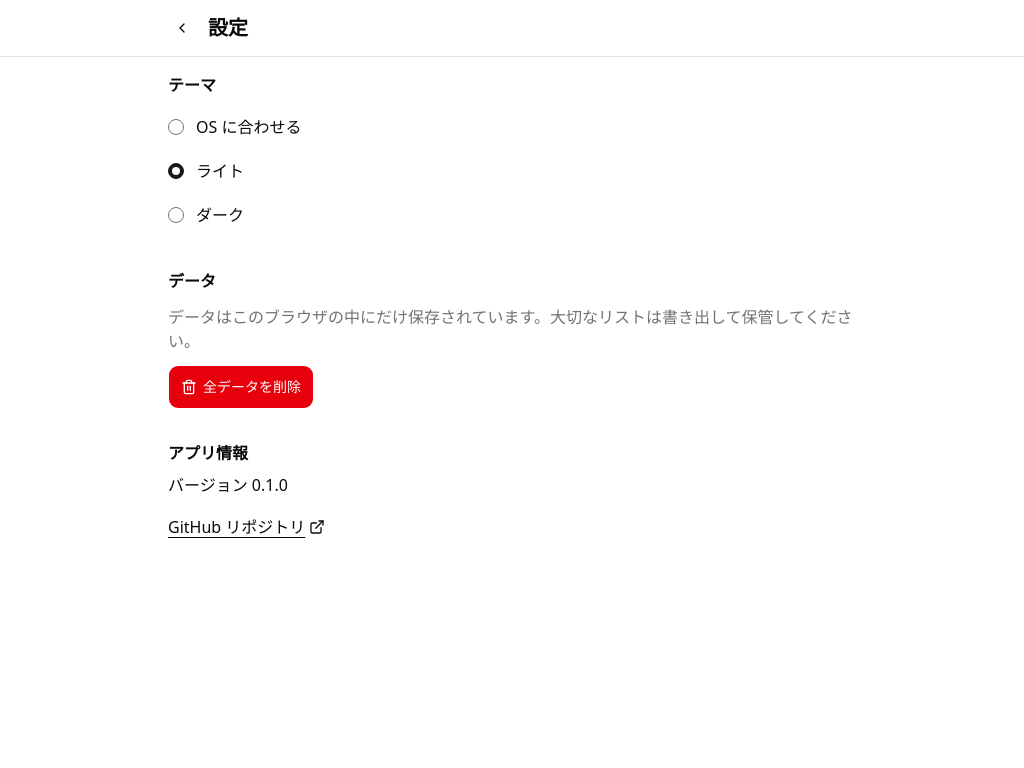
Test: Settings › データ › 1 段階目のキャンセルと 2 段階目の Esc では何も消えない
Expected: the heading "設定" is shown, [208,14,248,41]
Click the button "全データを削除" at (241, 387), box [168,365,314,409]
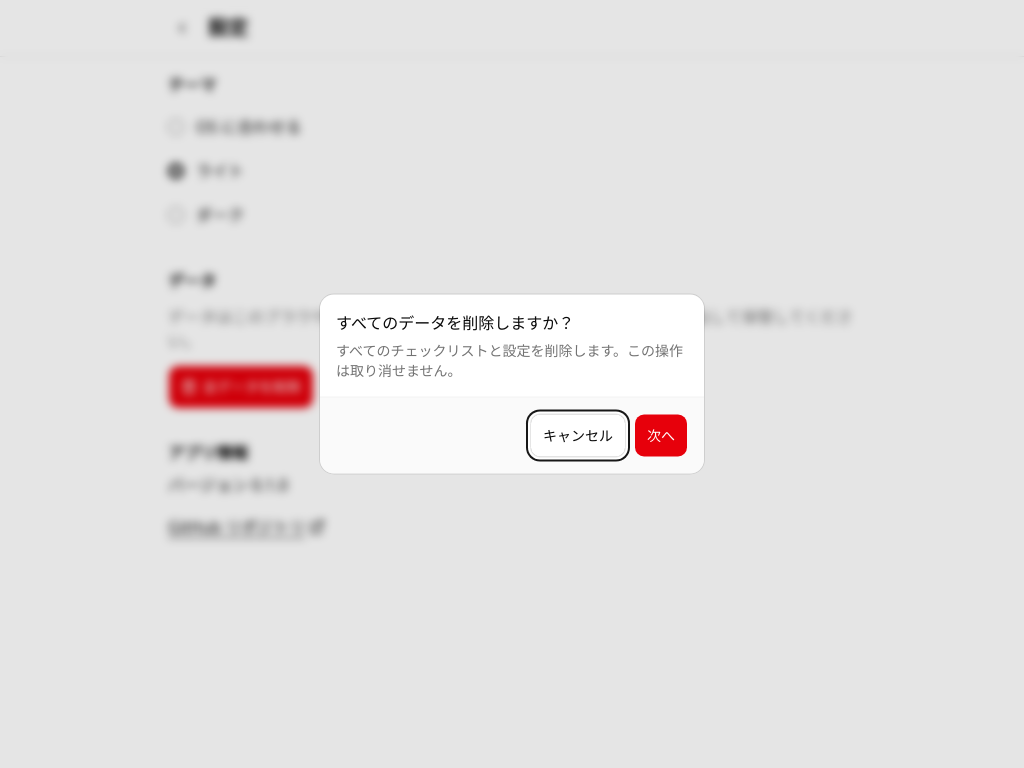
Click the button "キャンセル" at (578, 436), box [530,414,626,458]
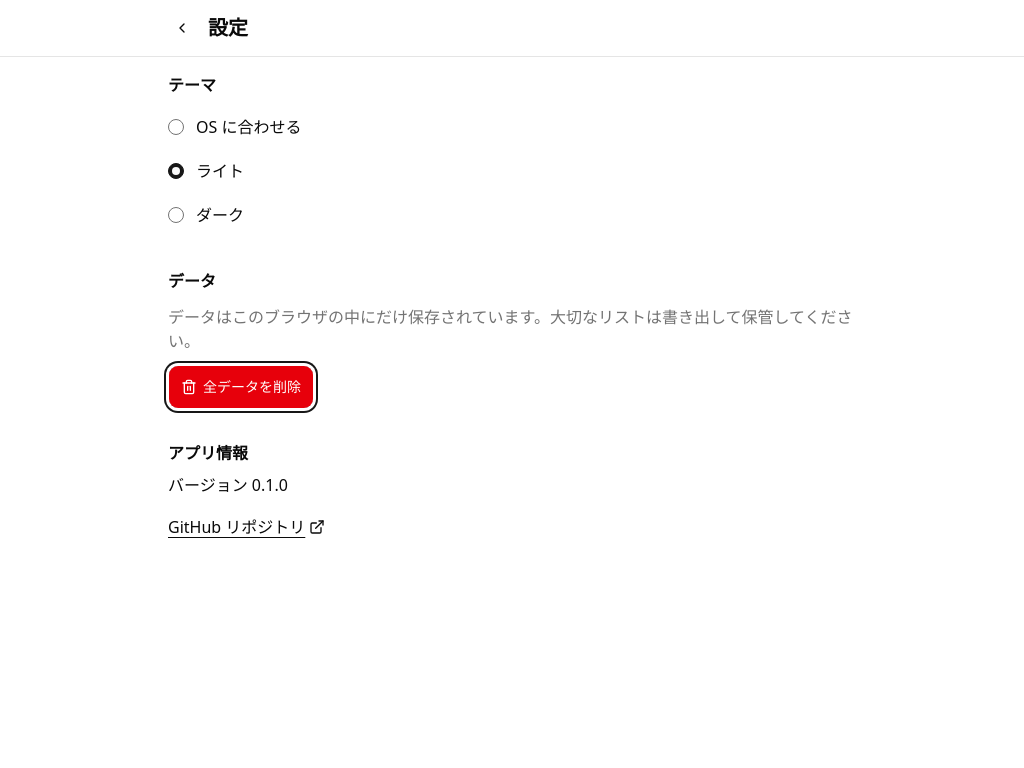
Now the dialog is gone
Click the button "全データを削除" at (241, 387), box [168,365,314,409]
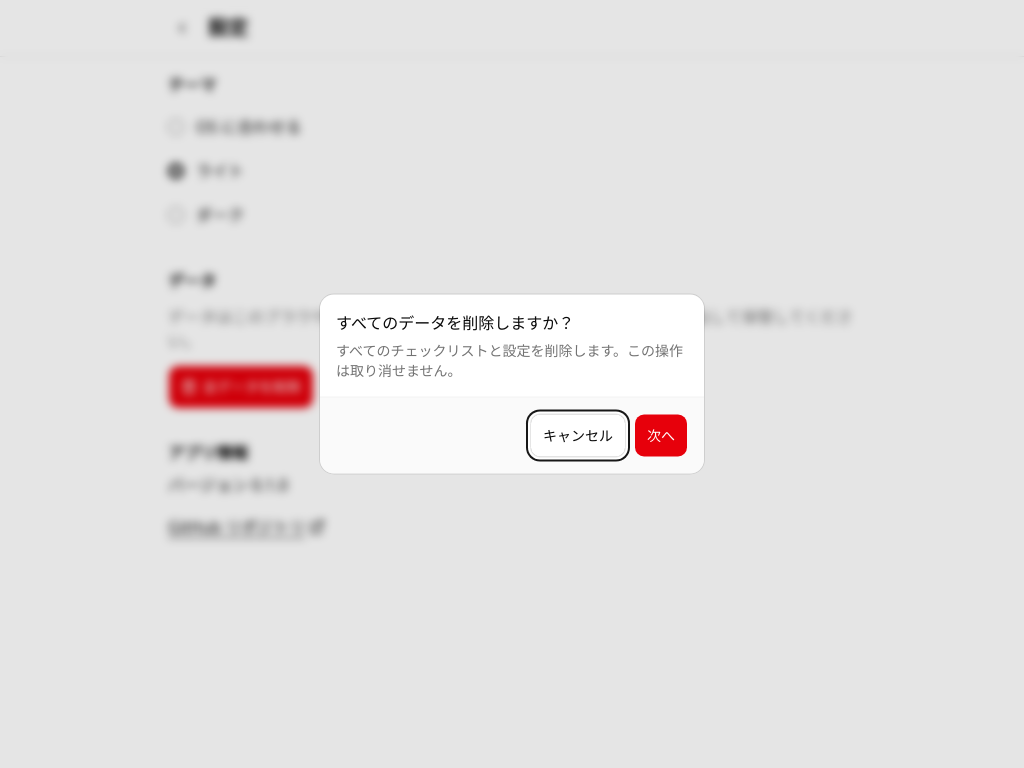
Click the button "次へ" at (661, 436), box [634,414,688,458]
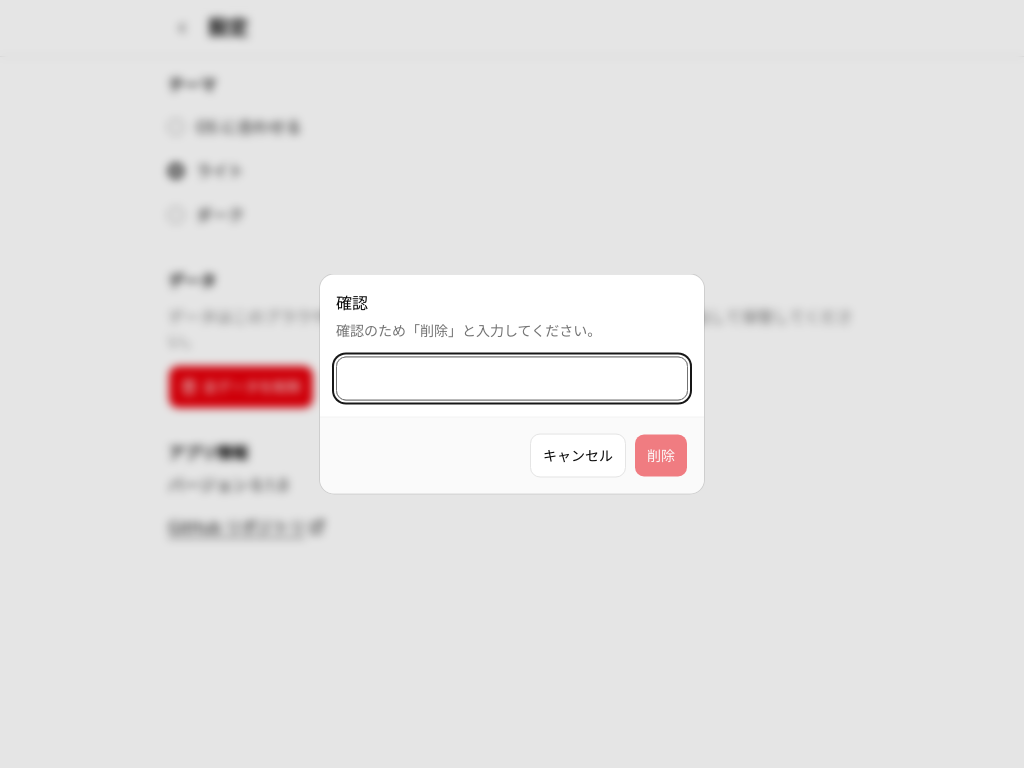
Type "削除" into the field labelled "確認のため「削除」と入力してください。" at (512, 378), box [336,356,688,400]
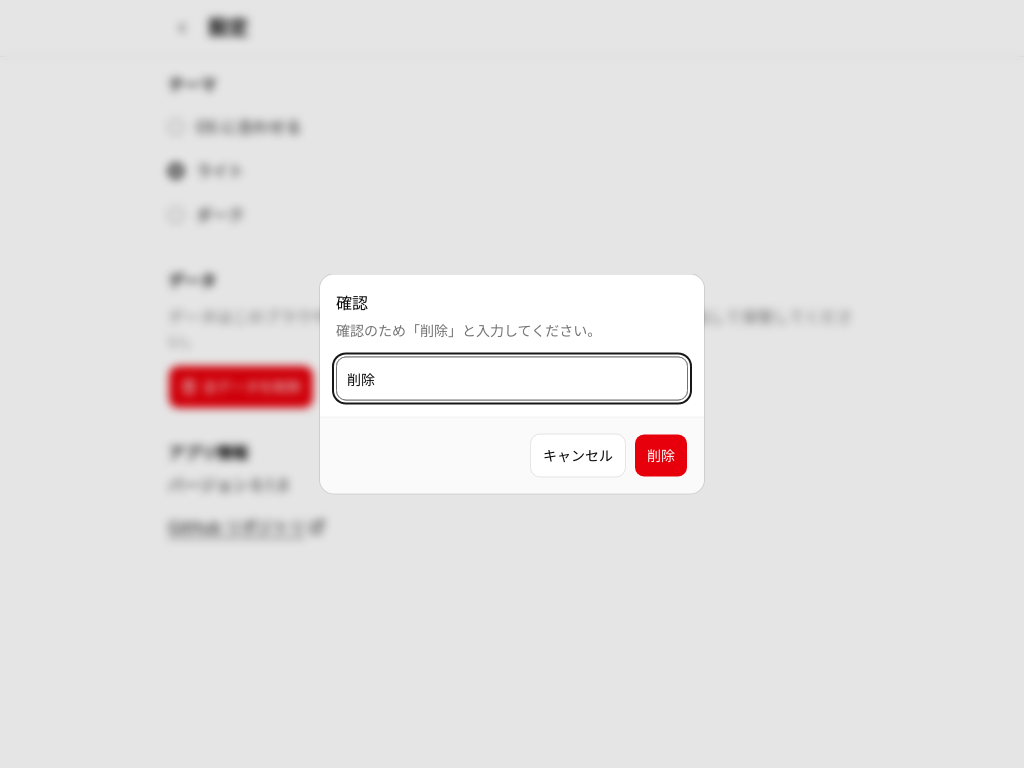
Press Escape
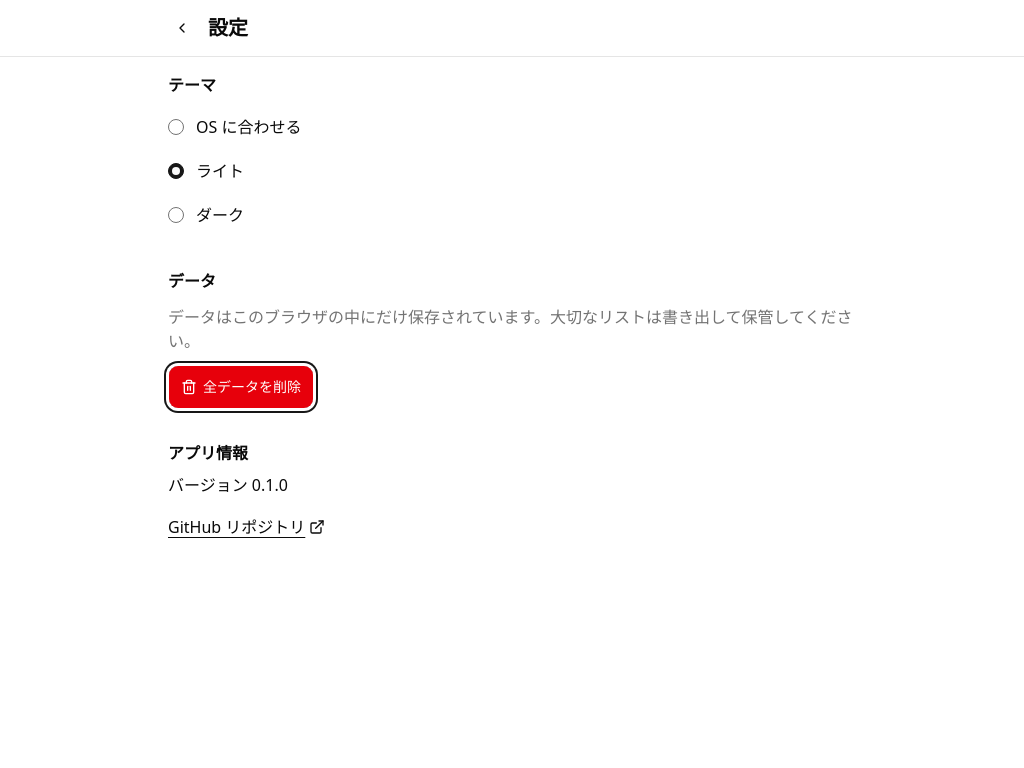
Expected: the heading "設定" is shown, [208,14,248,41]
Now the dialog is gone
